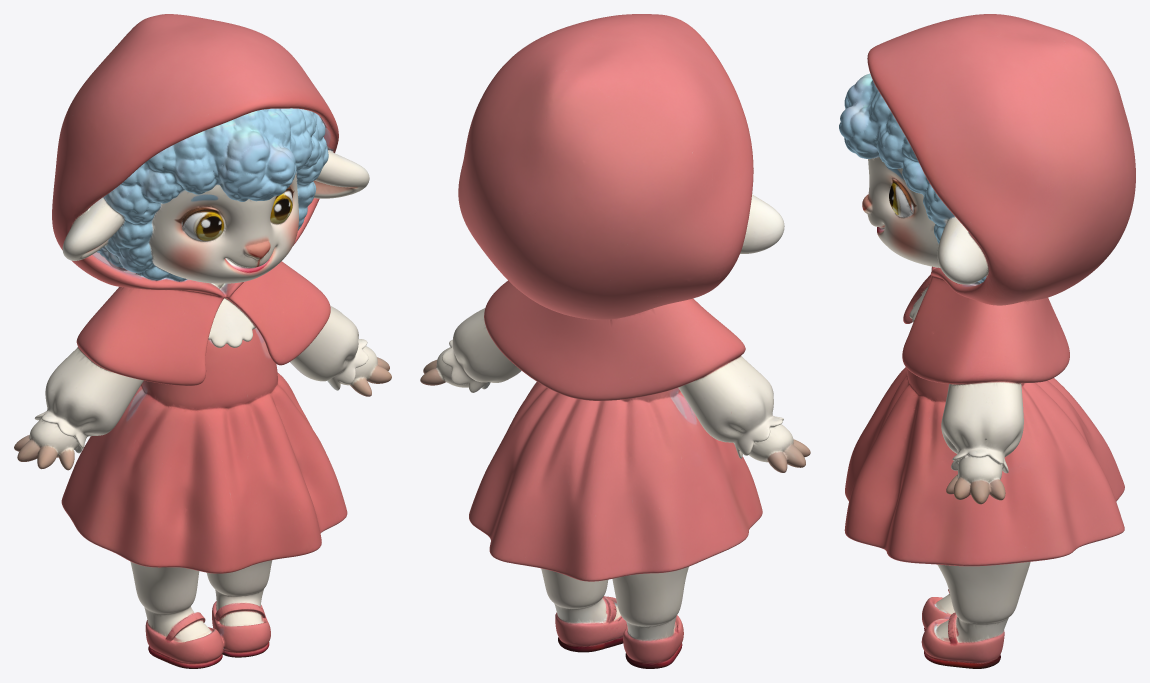
The model's file is Meshy_AI_Pink_Hooded_Lamb_0506122337_texture.glb.
3 views of the same model, side by side, from view 1: azimuth 30°, elevation 25°; view 2: azimuth 150°, elevation 25°; view 3: azimuth 270°, elevation 25° (orthographic). The views are drawn at different scales.
Size of the model in its own units: 1.22 by 1.9 by 0.8295.
1 material, 1 textured.
